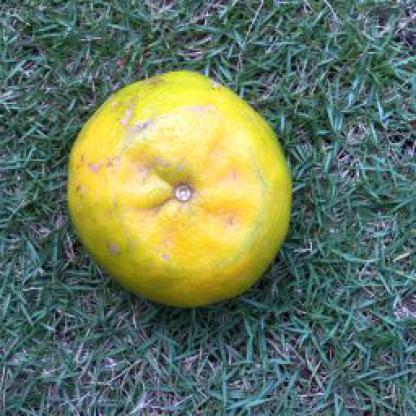orange_rotten: (65, 66, 296, 308)
